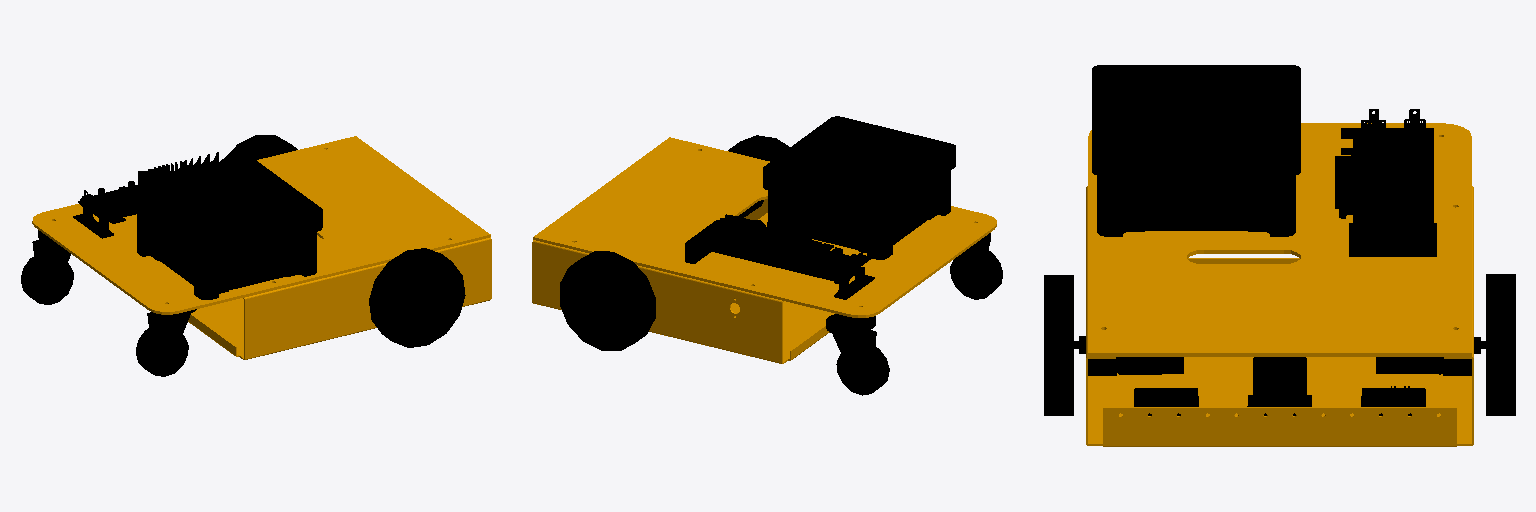
URDF robot description (robot):
<?xml version="1.0" ?>
<robot name="robot">
	<link name="base_link">
		<visual>
			<origin xyz="0.0 0.0 0" rpy="0 3.14159265359 0"/>
			<geometry>
				<mesh filename="package://robp_description/meshes/chassis.stl" scale="0.02824858757 0.02824858757 0.02824858757"/>
			</geometry>
			<material name="aluminium">
				<texture filename="package://robp_description/textures/aluminium.jpg"/>
			</material>
		</visual>
		<visual>
			<origin xyz="0.0 0.0 0" rpy="0 3.14159265359 0"/>
			<geometry>
				<mesh filename="package://robp_description/meshes/engines.stl" scale="0.02824858757 0.02824858757 0.02824858757"/>
			</geometry>
			<material name="">
				<color rgba="0 0 0 1" />
			</material>
		</visual>
		<visual>
			<origin xyz="0.0 0.0 0" rpy="0 3.14159265359 0"/>
			<geometry>
				<mesh filename="package://robp_description/meshes/Phidgets.stl" scale="0.02824858757 0.02824858757 0.02824858757"/>
			</geometry>
			<material name="">
				<color rgba="0 0 0 1" />
			</material>
		</visual>
		<visual>
			<origin xyz="0.0 0.0 0" rpy="0 3.14159265359 0"/>
			<geometry>
				<mesh filename="package://robp_description/meshes/NUC_fixture_withnuc.stl" scale="0.02824858757 0.02824858757 0.02824858757"/>
			</geometry>
			<material name="">
				<color rgba="0 0 0 1" />
			</material>
		</visual>
		<visual>
			<origin xyz="0.0 0.0 0" rpy="0 3.14159265359 0"/>
			<geometry>
				<mesh filename="package://robp_description/meshes/rearWheels.stl" scale="0.02824858757 0.02824858757 0.02824858757"/>
			</geometry>
			<material name="">
				<color rgba="0 0 0 1" />
			</material>
		</visual>
		<visual>
			<origin xyz="0.0 0.0 0" rpy="0 3.14159265359 0"/>
			<geometry>
				<mesh filename="package://robp_description/meshes/FrontWheels.stl" scale="0.02824858757 0.02824858757 0.02824858757"/>
			</geometry>
			<material name="">
				<color rgba="0 0 0 1" />
			</material>
		</visual>
		<visual>
			<origin xyz="0.0 0.0 0" rpy="0 3.14159265359 0"/>
			<geometry>
				<mesh filename="package://robp_description/meshes/distanser.stl" scale="0.02824858757 0.02824858757 0.02824858757"/>
			</geometry>
			<material name="">
				<color rgba="0 0 0 1" />
			</material>
		</visual>
		<visual>
			<origin xyz="0.0 0.0 0" rpy="0 3.14159265359 0"/>
			<geometry>
				<mesh filename="package://robp_description/meshes/GPU_fixture_withcard.stl" scale="0.02824858757 0.02824858757 0.02824858757"/>
			</geometry>
			<material name="">
				<color rgba="0 0 0 1" />
			</material>
		</visual>
	</link>

	<link name="camera_link">
		<visual>
			<origin xyz="0.0 0.0 0" rpy="1.57079632679 0.0 1.57079632679"/>
			<geometry>
				<mesh filename="package://realsense2_description/meshes/d435.dae"/>
			</geometry>
		</visual>
	</link>

	<link name="imu_link">
	</link>

	<joint name="base_to_camera" type="fixed">
		<origin xyz="0.08987 0.0175 0.10456" rpy="0.0 0.0 0.0"/>
		<parent link="base_link"/>
		<child link="camera_link"/>
	</joint>

	<joint name="base_to_imu" type="fixed">
		<origin xyz="0.00107 0 0.02361" rpy="0.0 0.0 0.0"/>
		<parent link="base_link"/>
		<child link="imu_link"/>
	</joint>
</robot>

--- Render facts (derived) ---
3 views of the same robot in one strip: view 1: azimuth 30°, elevation 25°; view 2: azimuth 150°, elevation 25°; view 3: azimuth 270°, elevation 25° (orthographic).
Model robot with 3 links and 2 joints (2 fixed), rooted at base_link, posed every joint at zero.
Visible links, largest first — view 1: base_link; view 2: base_link; view 3: base_link.
Boxes of the visible links, x1,y1,x2,y2 form: base_link: (21, 135, 491, 376); base_link: (532, 116, 1002, 395); base_link: (1044, 65, 1515, 446).
Bounding box of the posed robot: 0.4324 × 0.3622 × 0.1745 m (x, y, z).
Meshes: 9 distinct files referenced, 8 mesh visuals loaded (8 binary STL); not drawn: 1 (reference not matched to a file when rendering).
